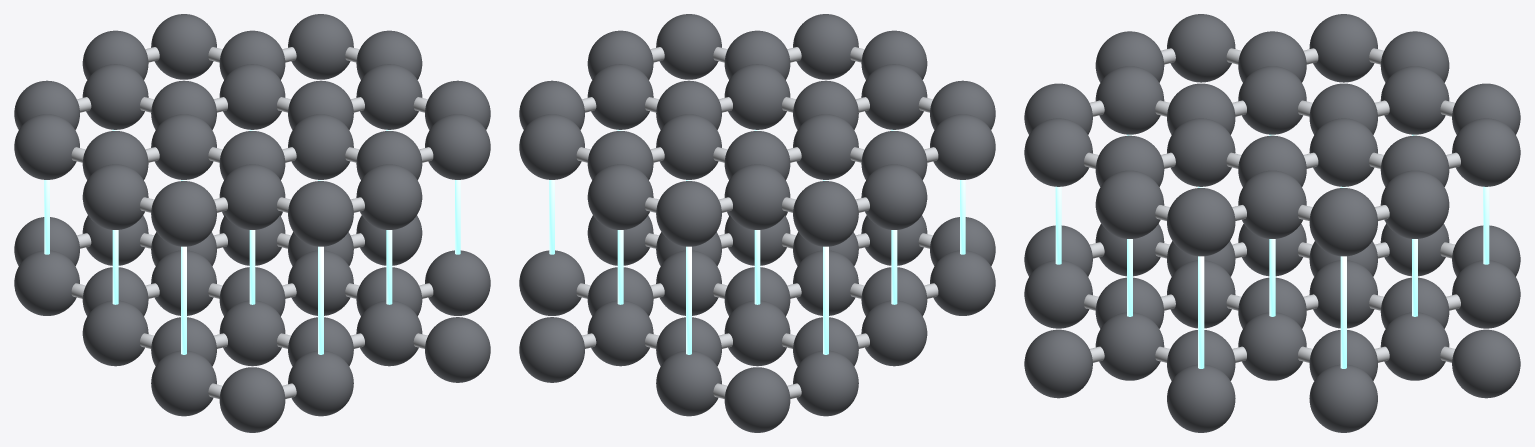
File: graphite-lattice.glb
The picture shows the model from 3 angles, left to right: view 1: azimuth 30°, elevation 25°; view 2: azimuth 150°, elevation 25°; view 3: azimuth 270°, elevation 25°; orthographic projection. The views are drawn at different scales.
Visible parts, largest first — view 1: graphite-lattice-atom-layerA-16, graphite-lattice-atom-layerA-22, graphite-lattice-atom-layerB-12, graphite-lattice-atom-layerB-19, graphite-lattice-atom-layerB-5, graphite-lattice-atom-layerB-20, graphite-lattice-atom-layerB-0, graphite-lattice-atom-layerB-22, graphite-lattice-atom-layerA-9, graphite-lattice-atom-layerA-17, graphite-lattice-atom-layerA-0, graphite-lattice-atom-layerA-21 (+39 smaller); view 2: graphite-lattice-atom-layerA-1, graphite-lattice-atom-layerA-8, graphite-lattice-atom-layerB-1, graphite-lattice-atom-layerB-3, graphite-lattice-atom-layerB-0, graphite-lattice-atom-layerB-4, graphite-lattice-atom-layerB-5, graphite-lattice-atom-layerB-11, graphite-lattice-atom-layerA-0, graphite-lattice-atom-layerA-2, graphite-lattice-atom-layerA-9, graphite-lattice-atom-layerA-15 (+39 smaller); view 3: graphite-lattice-atom-layerA-8, graphite-lattice-atom-layerA-22, graphite-lattice-atom-layerB-18, graphite-lattice-atom-layerB-23, graphite-lattice-atom-layerA-15, graphite-lattice-atom-layerA-21, graphite-lattice-atom-layerB-11, graphite-lattice-atom-layerB-22, graphite-lattice-atom-layerB-4, graphite-lattice-atom-layerB-20, graphite-lattice-atom-layerA-2, graphite-lattice-atom-layerA-17 (+40 smaller).
Part boxes in pixels (box(x1,y1,x2,y2)): graphite-lattice-atom-layerA-16: box(219, 367, 285, 432); graphite-lattice-atom-layerA-22: box(425, 317, 490, 382); graphite-lattice-atom-layerB-12: box(151, 181, 216, 246); graphite-lattice-atom-layerB-19: box(288, 181, 353, 246); graphite-lattice-atom-layerB-5: box(82, 164, 148, 229); graphite-lattice-atom-layerB-20: box(356, 164, 422, 229); graphite-lattice-atom-layerB-0: box(14, 114, 79, 179); graphite-lattice-atom-layerB-22: box(425, 114, 490, 179); graphite-lattice-atom-layerA-9: box(151, 350, 216, 416); graphite-lattice-atom-layerA-17: box(288, 350, 353, 416); graphite-lattice-atom-layerA-0: box(14, 250, 79, 315); graphite-lattice-atom-layerA-21: box(425, 250, 490, 315); graphite-lattice-atom-layerA-1: box(724, 367, 790, 432); graphite-lattice-atom-layerA-8: box(519, 317, 584, 382); graphite-lattice-atom-layerB-1: box(793, 181, 858, 246); graphite-lattice-atom-layerB-3: box(656, 181, 721, 246); graphite-lattice-atom-layerB-0: box(861, 164, 927, 229); graphite-lattice-atom-layerB-4: box(587, 164, 653, 229); graphite-lattice-atom-layerB-5: box(930, 114, 995, 179); graphite-lattice-atom-layerB-11: box(519, 114, 584, 179); graphite-lattice-atom-layerA-0: box(793, 350, 858, 416); graphite-lattice-atom-layerA-2: box(656, 350, 721, 416); graphite-lattice-atom-layerA-9: box(930, 250, 995, 315); graphite-lattice-atom-layerA-15: box(519, 250, 584, 315); graphite-lattice-atom-layerA-8: box(1452, 329, 1520, 398); graphite-lattice-atom-layerA-22: box(1024, 329, 1092, 398); graphite-lattice-atom-layerB-18: box(1309, 188, 1377, 256); graphite-lattice-atom-layerB-23: box(1167, 188, 1235, 256); graphite-lattice-atom-layerA-15: box(1309, 364, 1377, 432); graphite-lattice-atom-layerA-21: box(1167, 364, 1235, 432); graphite-lattice-atom-layerB-11: box(1380, 170, 1449, 238); graphite-lattice-atom-layerB-22: box(1095, 170, 1164, 238); graphite-lattice-atom-layerB-4: box(1452, 118, 1520, 186); graphite-lattice-atom-layerB-20: box(1024, 118, 1092, 186); graphite-lattice-atom-layerA-2: box(1452, 260, 1520, 328); graphite-lattice-atom-layerA-17: box(1024, 260, 1092, 328).
Size of the model in its own units: 0.14 by 0.0768 by 0.1447.
